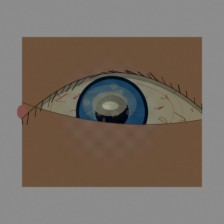corneal_ulcer: (81, 81, 138, 127)
